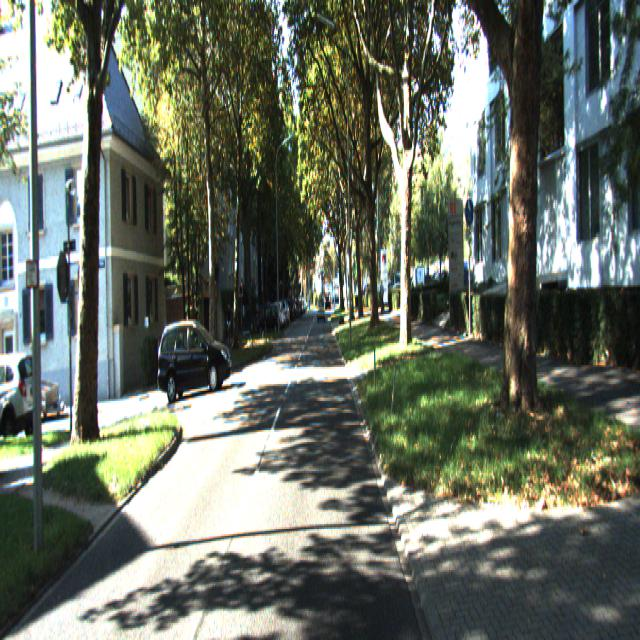Car: (157, 322, 232, 404)
